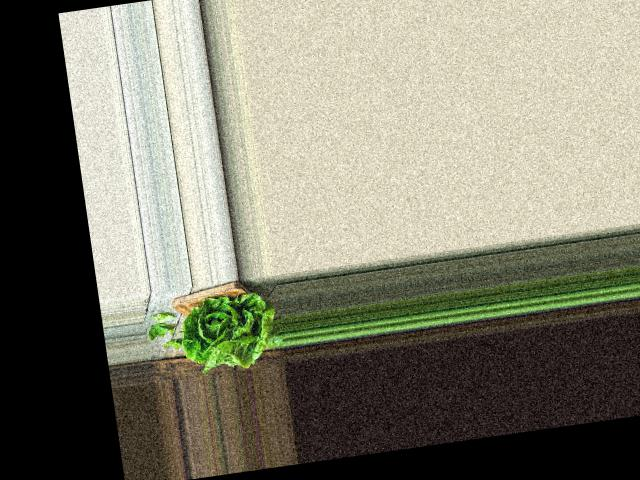lettuce: (180, 284, 283, 373)
